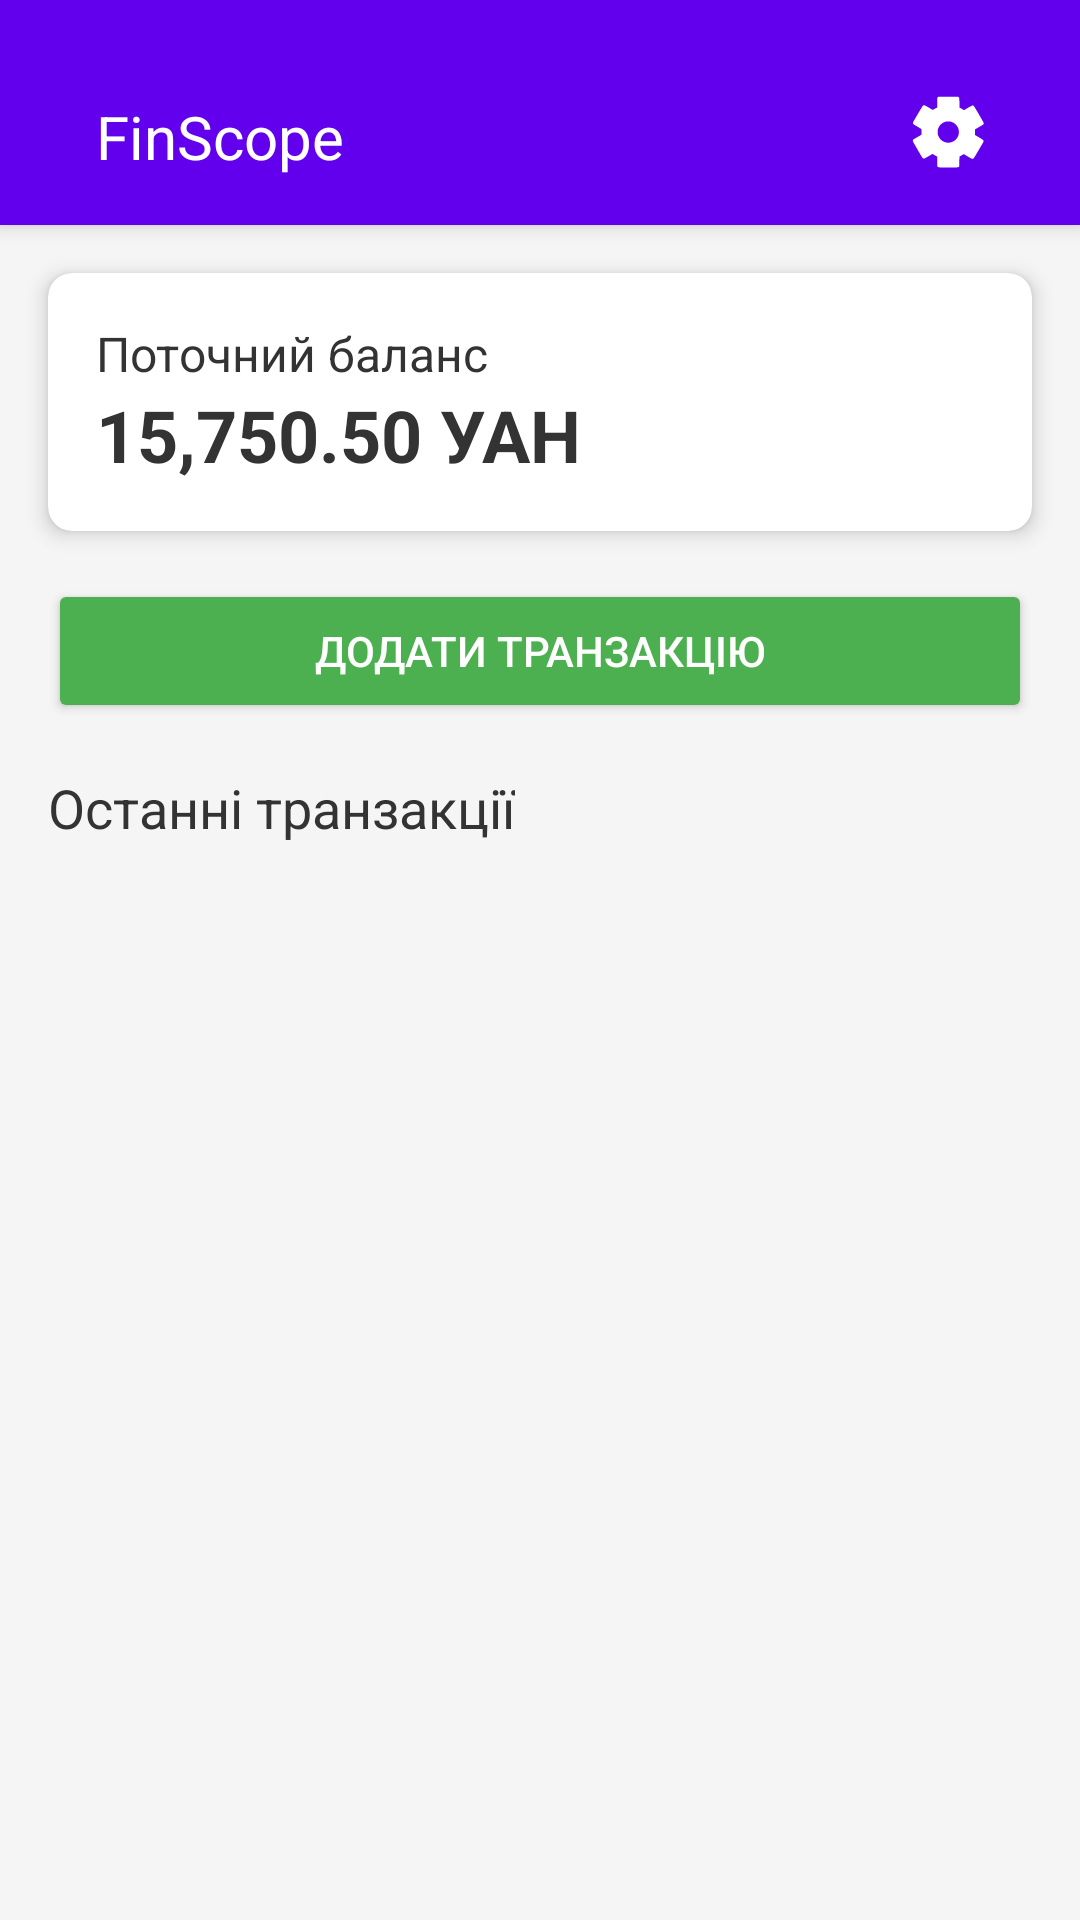

Icons on this 1080w x 1920h Android screen, each with the point to tap as point (x, y):
settings: point (948, 132)
